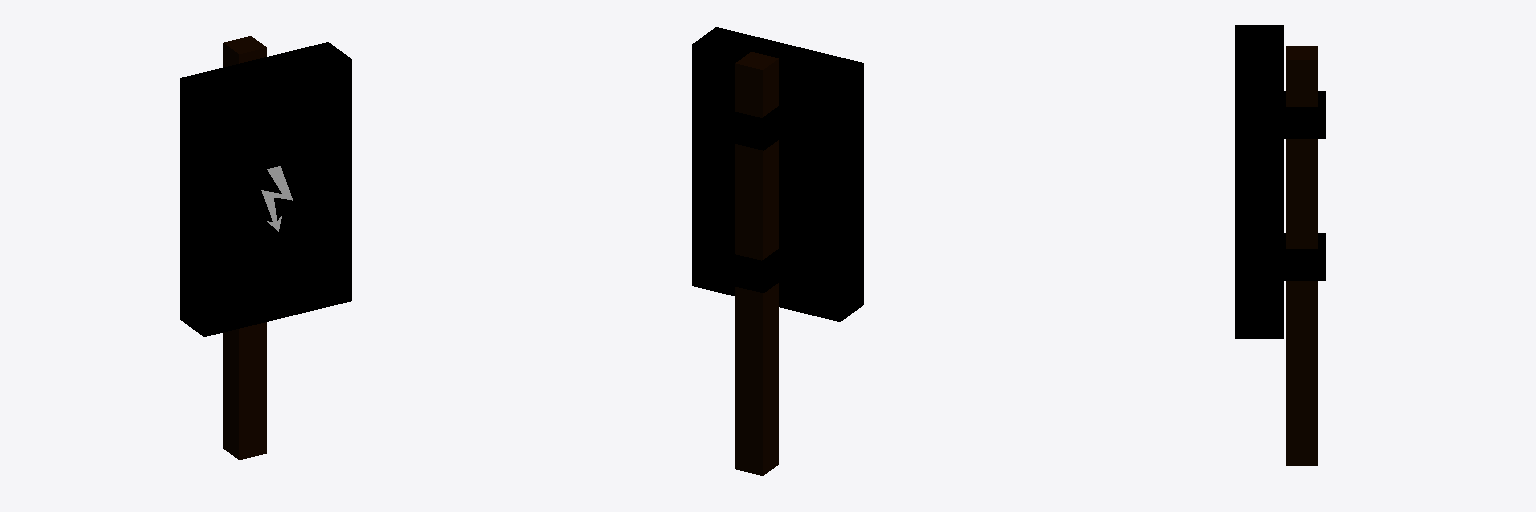
File: Shitok.obj
3 renders of one model, left to right at view 1: azimuth 30°, elevation 25°; view 2: azimuth 150°, elevation 25°; view 3: azimuth 270°, elevation 25°, orthographic.
Visible parts, largest first — view 1: Shitok, Плоскость; view 2: Shitok; view 3: Shitok.
Part boxes in pixels (left/top/right/bottom): Shitok: left=180, top=36, right=351, bottom=459; Плоскость: left=261, top=166, right=292, bottom=231; Shitok: left=692, top=27, right=863, bottom=475; Shitok: left=1235, top=25, right=1325, bottom=465.
Size of the model in its own units: 1.13 by 2.96 by 0.6034.